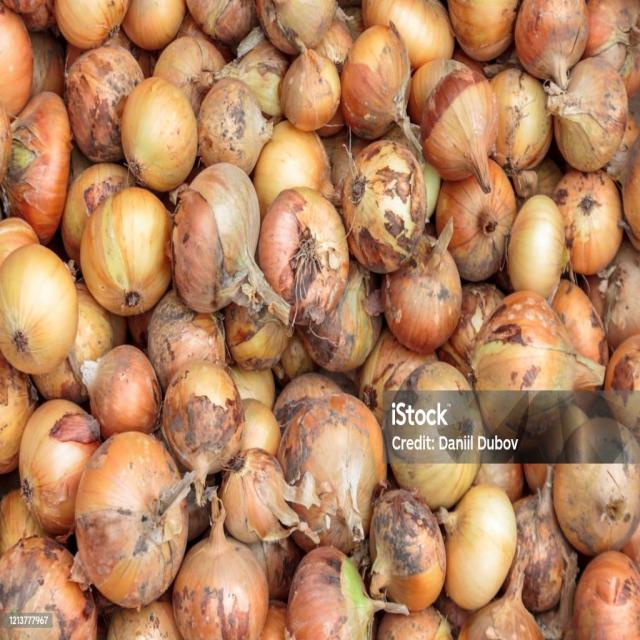rotten: (71, 429, 190, 609), (170, 160, 288, 326), (276, 390, 385, 554), (470, 290, 596, 411), (384, 363, 484, 512), (171, 498, 271, 636), (258, 187, 348, 329), (338, 139, 428, 275), (78, 188, 172, 316), (160, 360, 250, 490), (19, 398, 100, 539), (284, 544, 404, 638), (381, 221, 464, 353), (3, 91, 74, 244), (366, 486, 450, 614), (435, 484, 519, 611), (34, 284, 120, 404), (1, 244, 78, 378), (419, 64, 500, 191), (1, 536, 98, 639), (435, 158, 516, 280), (553, 444, 640, 556), (65, 44, 146, 163), (511, 469, 577, 612), (548, 57, 628, 174), (296, 259, 378, 373), (119, 77, 199, 191), (217, 447, 305, 550), (340, 22, 414, 142), (146, 292, 226, 394), (82, 345, 162, 444), (252, 123, 332, 220), (195, 77, 274, 174), (359, 327, 436, 425), (553, 171, 623, 277), (62, 161, 134, 264), (488, 69, 552, 179), (440, 281, 506, 384), (506, 192, 570, 298), (152, 34, 226, 123), (516, 0, 590, 88), (212, 38, 288, 122), (567, 550, 640, 637), (364, 1, 452, 72), (278, 44, 342, 132), (560, 414, 638, 484), (474, 377, 547, 449), (274, 372, 356, 431), (446, 0, 522, 62), (409, 56, 469, 132), (259, 0, 339, 56), (0, 348, 36, 471), (581, 0, 638, 75), (600, 246, 640, 349), (0, 6, 34, 118), (54, 0, 130, 50), (183, 0, 256, 48), (328, 135, 376, 205), (120, 0, 186, 50), (24, 28, 66, 102), (0, 490, 41, 555), (0, 216, 39, 284), (224, 363, 275, 414), (187, 32, 228, 78), (1, 0, 56, 33), (362, 0, 404, 31), (64, 38, 90, 80), (522, 462, 548, 494)
